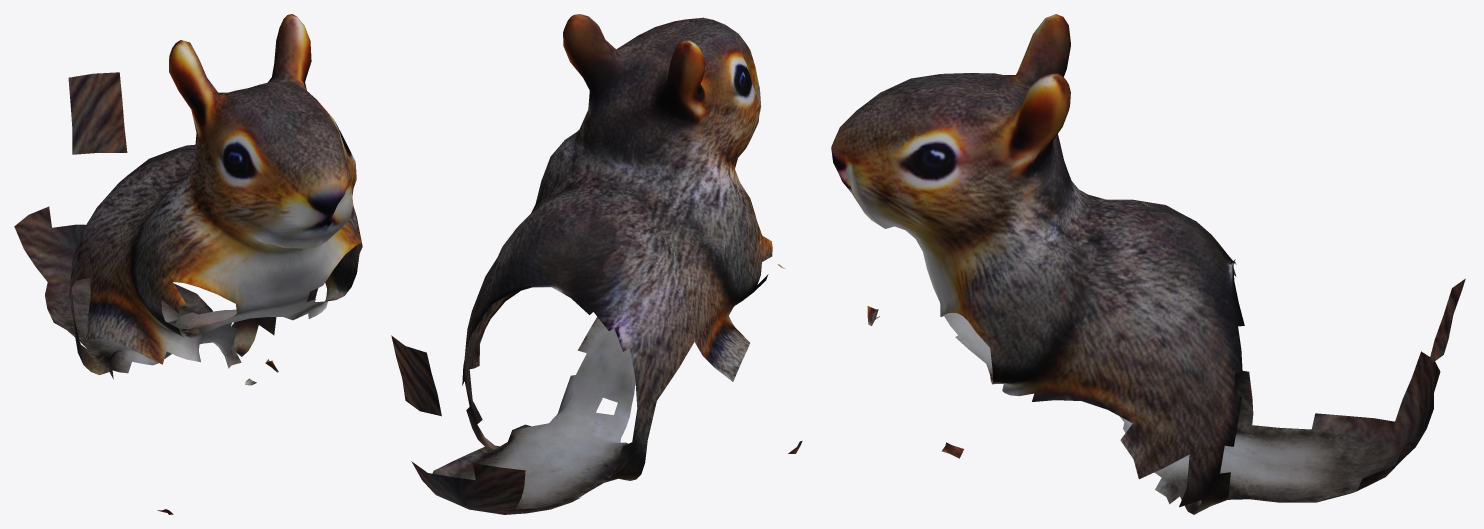
Rendered from cuerpo.obj.
The picture shows the model from 3 angles, left to right: view 1: azimuth 30°, elevation 25°; view 2: azimuth 150°, elevation 25°; view 3: azimuth 270°, elevation 25°; orthographic projection. The views are drawn at different scales.
Visible parts, largest first — view 1: cuerpo; view 2: cuerpo; view 3: cuerpo.
Part boxes in pixels (x1=…): cuerpo: x1=14, y1=14, x2=362, y2=514; cuerpo: x1=391, y1=14, x2=802, y2=514; cuerpo: x1=831, y1=14, x2=1465, y2=514.
Size of the model in its own units: 1.56 by 2.63 by 3.2.
1 material, 1 textured.
